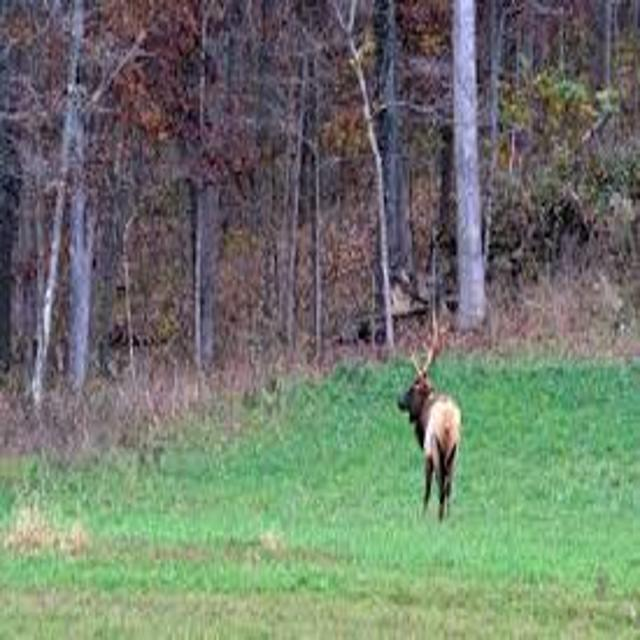deer: (364, 290, 507, 547)
